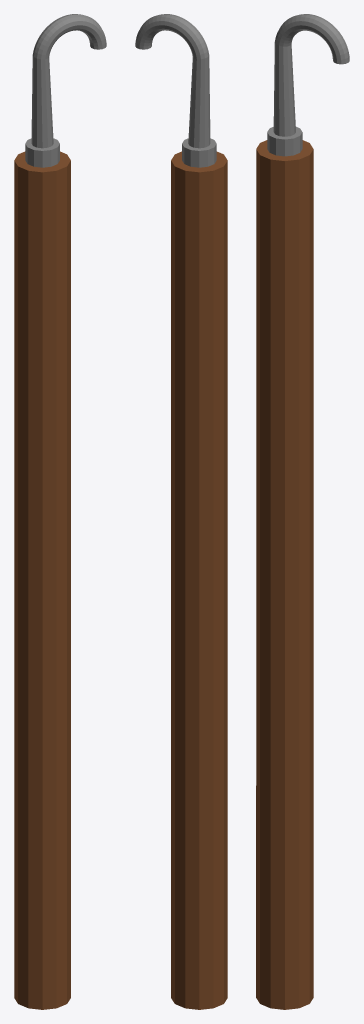
File: Gancho.fbx
3 renders of one model, left to right at view 1: azimuth 30°, elevation 25°; view 2: azimuth 150°, elevation 25°; view 3: azimuth 330°, elevation 25°, orthographic.
Parts seen in each view (by area): view 1: Cilindro; view 2: Cilindro; view 3: Cilindro.
Boxes of the visible parts, x1=… form: Cilindro: x1=14, y1=14, x2=106, y2=1009; Cilindro: x1=135, y1=14, x2=227, y2=1009; Cilindro: x1=256, y1=14, x2=349, y2=1009.
Bounding box in the file's own units: 164 × 1748 × 91.97.
